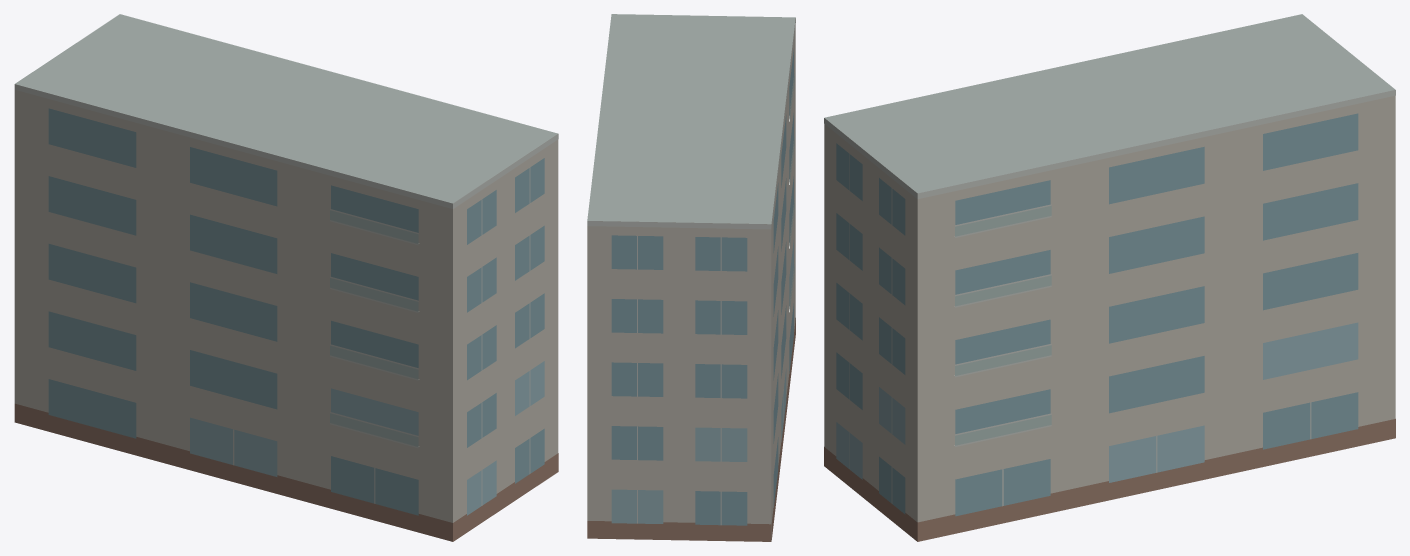
File: survey-upis-32835268.glb
The picture shows the model from 3 angles, left to right: view 1: azimuth 30°, elevation 25°; view 2: azimuth 150°, elevation 25°; view 3: azimuth 270°, elevation 25°; orthographic projection. The views are drawn at different scales.
Visible parts, largest first — view 1: survey-upis-32835268.tmp; view 2: survey-upis-32835268.tmp; view 3: survey-upis-32835268.tmp.
Part boxes in pixels (box(x1,y1,x2,y2)): survey-upis-32835268.tmp: box(14, 14, 558, 541); survey-upis-32835268.tmp: box(587, 14, 795, 541); survey-upis-32835268.tmp: box(824, 14, 1395, 541).
Size of the model in its own units: 16.19 by 14.65 by 21.79.
